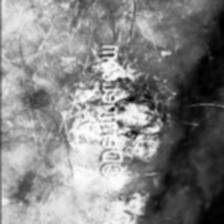Potentially Malignant Skin Tumors: (119, 60, 171, 224), (65, 69, 103, 187)
